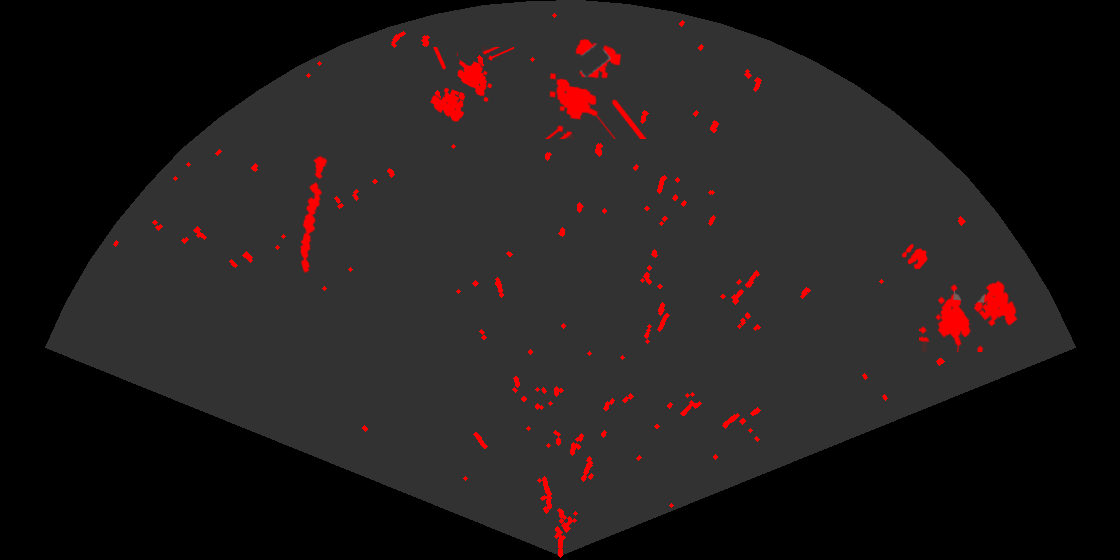ball: (900, 242, 929, 271)
cage: (543, 37, 648, 139), (919, 279, 1019, 352), (429, 47, 514, 123)
chain: (298, 153, 329, 275)
